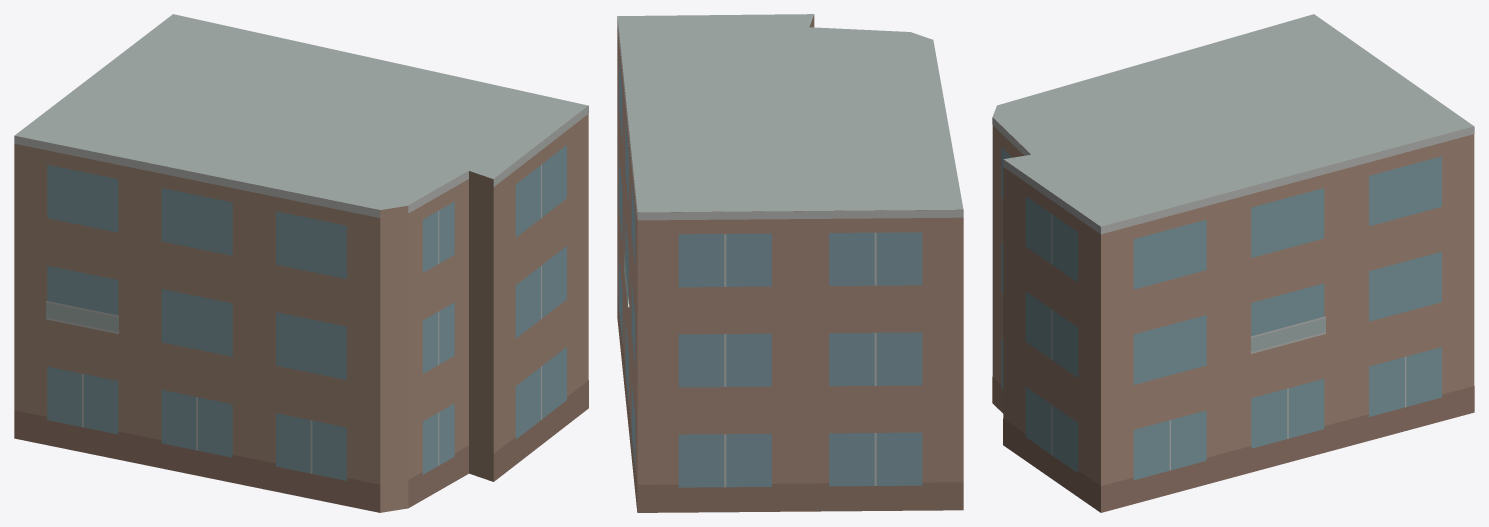
The model's file is survey-upis-33000650.glb.
3 renders of one model, left to right at view 1: azimuth 30°, elevation 25°; view 2: azimuth 150°, elevation 25°; view 3: azimuth 270°, elevation 25°, orthographic. The views are drawn at different scales.
Visible parts, largest first — view 1: survey-upis-33000650.tmp; view 2: survey-upis-33000650.tmp; view 3: survey-upis-33000650.tmp.
Boxes of the visible parts, x1,y1,x2,y2 form: survey-upis-33000650.tmp: (14,14,588,512); survey-upis-33000650.tmp: (617,14,963,512); survey-upis-33000650.tmp: (992,14,1474,512).
Bounding box in the file's own units: 14.61 × 9.15 × 13.98.
